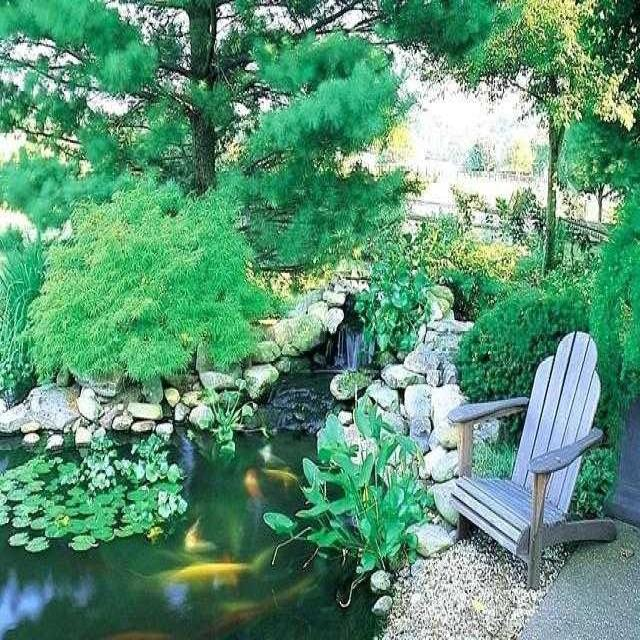Ponds: (1, 257, 470, 639)
